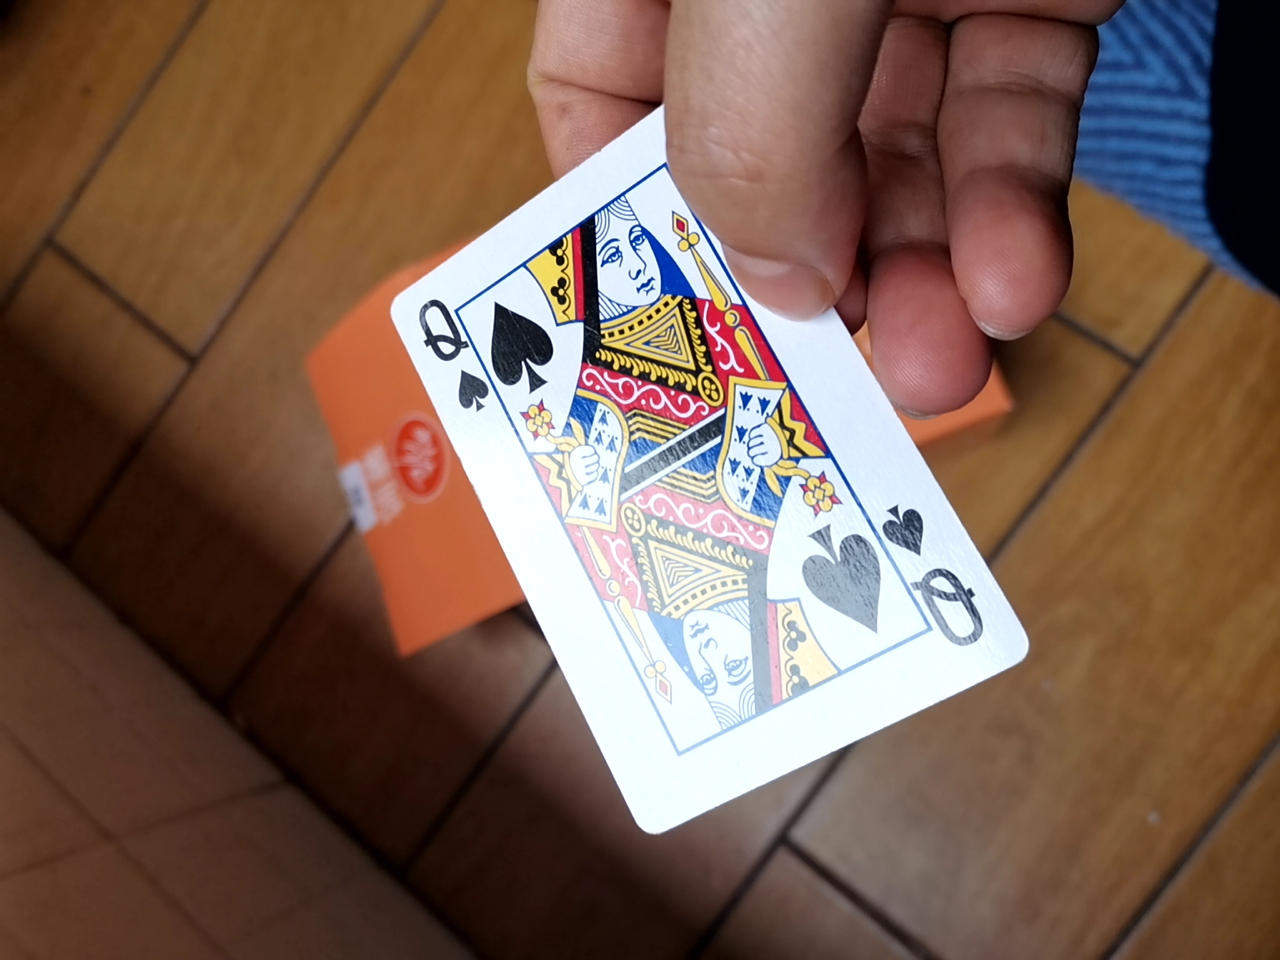ht q: (363, 100, 1009, 857)
